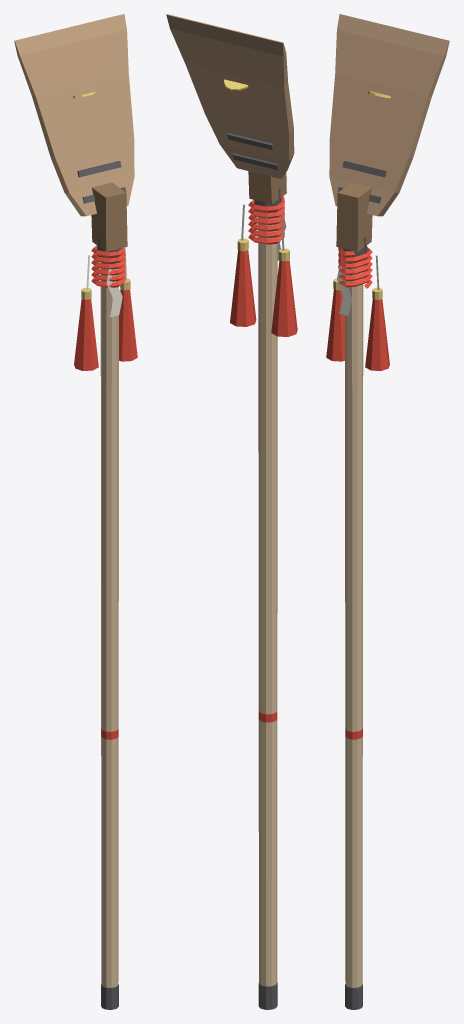
File: local_dengaku_hoe_prop.glb
3 renders of one model, left to right at view 1: azimuth 30°, elevation 25°; view 2: azimuth 150°, elevation 25°; view 3: azimuth 330°, elevation 25°, orthographic. The views are drawn at different scales.
Parts seen in each view (by area): view 1: Hoe_CeremonialBlade, Hoe_Wooden_Shaft, Hoe_MountingJointBlock, Ceremonial_Fusa_-1, Shaft_FestiveCordWrap, Ceremonial_Fusa_1, Shaft_ButtCap, Ceremonial_ShideStreamer, Blade_ClampBand_8; view 2: Hoe_Wooden_Shaft, Hoe_CeremonialBlade, Ceremonial_Fusa_1, Ceremonial_Fusa_-1, Shaft_FestiveCordWrap, Hoe_MountingJointBlock, Shaft_ButtCap, Blade_ClampBand_8; view 3: Hoe_CeremonialBlade, Hoe_Wooden_Shaft, Hoe_MountingJointBlock, Ceremonial_Fusa_1, Shaft_FestiveCordWrap, Ceremonial_Fusa_-1, Shaft_ButtCap, Ceremonial_ShideStreamer, Blade_ClampBand_8.
Part boxes in pixels (x1,y1,x2,y2): Hoe_CeremonialBlade: [14, 14, 134, 216]; Hoe_Wooden_Shaft: [100, 262, 118, 987]; Hoe_MountingJointBlock: [91, 182, 127, 251]; Ceremonial_Fusa_-1: [74, 299, 98, 370]; Shaft_FestiveCordWrap: [91, 245, 125, 287]; Ceremonial_Fusa_1: [119, 289, 137, 361]; Shaft_ButtCap: [101, 984, 118, 1009]; Ceremonial_ShideStreamer: [106, 265, 122, 317]; Blade_ClampBand_8: [77, 161, 121, 177]; Hoe_Wooden_Shaft: [258, 217, 277, 986]; Hoe_CeremonialBlade: [166, 14, 294, 178]; Ceremonial_Fusa_1: [230, 250, 256, 326]; Ceremonial_Fusa_-1: [271, 260, 297, 336]; Shaft_FestiveCordWrap: [248, 196, 284, 244]; Hoe_MountingJointBlock: [248, 171, 286, 203]; Shaft_ButtCap: [258, 982, 277, 1009]; Blade_ClampBand_8: [227, 133, 273, 150]; Hoe_CeremonialBlade: [329, 14, 449, 216]; Hoe_Wooden_Shaft: [345, 262, 363, 987]; Hoe_MountingJointBlock: [336, 182, 372, 251]; Ceremonial_Fusa_1: [365, 299, 389, 370]; Shaft_FestiveCordWrap: [338, 246, 372, 288]; Ceremonial_Fusa_-1: [326, 289, 344, 361]; Shaft_ButtCap: [345, 984, 362, 1009]; Ceremonial_ShideStreamer: [337, 262, 352, 315]; Blade_ClampBand_8: [342, 161, 386, 177].
Bounding box in the file's own units: 0.2355 × 1.95 × 0.1866.
